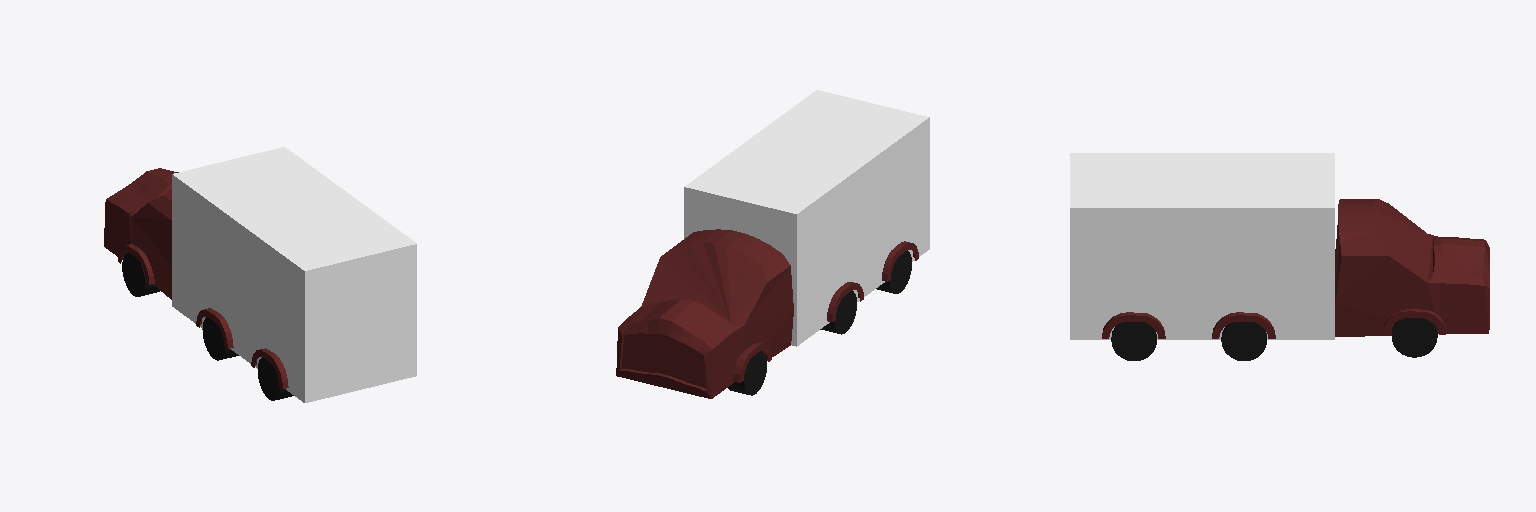
File: Big_Truck.obj
3 views of the same model, side by side, from view 1: azimuth 30°, elevation 25°; view 2: azimuth 150°, elevation 25°; view 3: azimuth 270°, elevation 25° (orthographic).
Parts seen in each view (by area): view 1: pCube2, pCube1, pCylinder2, pCylinder3, pCylinder7, group1 pasted__pCylinder3, pasted__pCylinder1 group1; view 2: pCube2, pCube1, pCylinder2, pCylinder3, pCylinder7, pCylinder1, group1 pasted__pCylinder3, pasted__pCylinder1 group1; view 3: pCube2, pCube1, pCylinder5, pCylinder4, pCylinder6, group1 pasted__group pasted__pasted__pCylinder2, group1 pasted__pasted__pCylinder1 pasted__group, pasted__pCylinder1 group.
Part boxes in pixels (bbox=[...]): pCube2: bbox=[172, 147, 416, 402]; pCube1: bbox=[104, 168, 178, 299]; pCylinder2: bbox=[122, 253, 159, 296]; pCylinder3: bbox=[258, 357, 293, 400]; pCylinder7: bbox=[202, 317, 238, 360]; group1 pasted__pCylinder3: bbox=[196, 308, 233, 348]; pasted__pCylinder1 group1: bbox=[251, 348, 288, 388]; pCube2: bbox=[684, 90, 929, 346]; pCube1: bbox=[616, 229, 793, 398]; pCylinder2: bbox=[728, 351, 766, 395]; pCylinder3: bbox=[876, 250, 911, 293]; pCylinder7: bbox=[820, 291, 856, 334]; pCylinder1: bbox=[733, 343, 771, 382]; group1 pasted__pCylinder3: bbox=[827, 282, 863, 321]; pasted__pCylinder1 group1: bbox=[882, 241, 918, 281]; pCube2: bbox=[1070, 153, 1334, 339]; pCube1: bbox=[1335, 199, 1489, 336]; pCylinder5: bbox=[1392, 318, 1437, 357]; pCylinder4: bbox=[1111, 322, 1156, 360]; pCylinder6: bbox=[1221, 322, 1266, 360]; group1 pasted__group pasted__pasted__pCylinder2: bbox=[1212, 312, 1275, 338]; group1 pasted__pasted__pCylinder1 pasted__group: bbox=[1102, 312, 1165, 338]; pasted__pCylinder1 group: bbox=[1382, 309, 1445, 334].
Size of the model in its own units: 8.45 by 9.81 by 24.78.